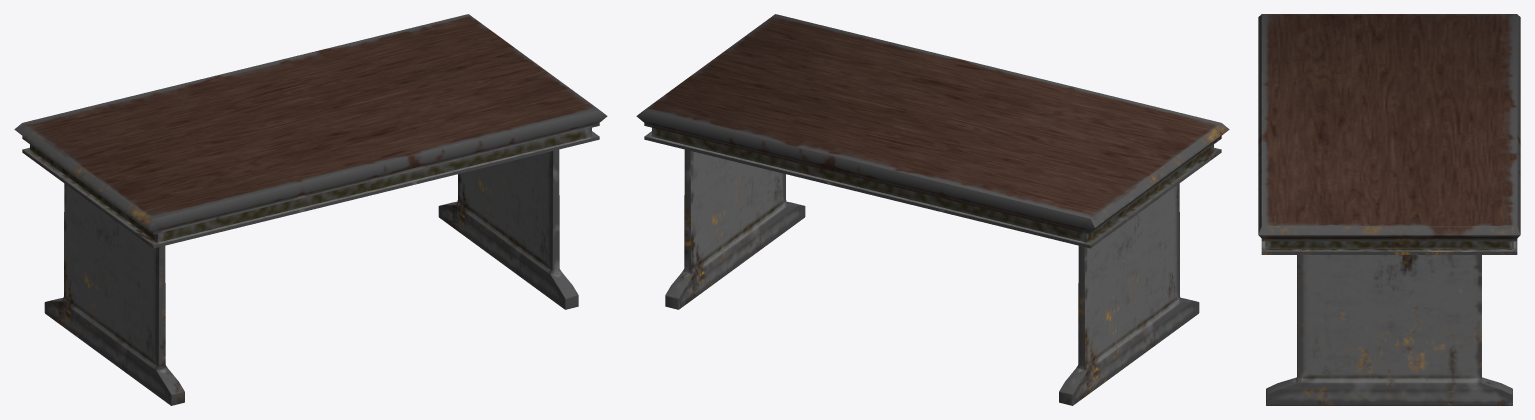
The model's file is Mesa_SalaReuniao_NEC_CENA.fbx.
3 views of the same model, side by side, from view 1: azimuth 30°, elevation 25°; view 2: azimuth 150°, elevation 25°; view 3: azimuth 270°, elevation 25° (orthographic). The views are drawn at different scales.
Visible parts, largest first — view 1: MesaSimples; view 2: MesaSimples; view 3: MesaSimples.
Part boxes in pixels (x1,y1,x2,y2): MesaSimples: (14, 14, 607, 405); MesaSimples: (636, 14, 1229, 405); MesaSimples: (1258, 14, 1520, 405).
Size of the model in its own units: 171 by 69.02 by 86.95.
1 material, 1 textured.
